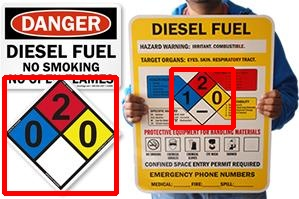nfpa: (4, 77, 116, 193), (171, 69, 233, 127)
